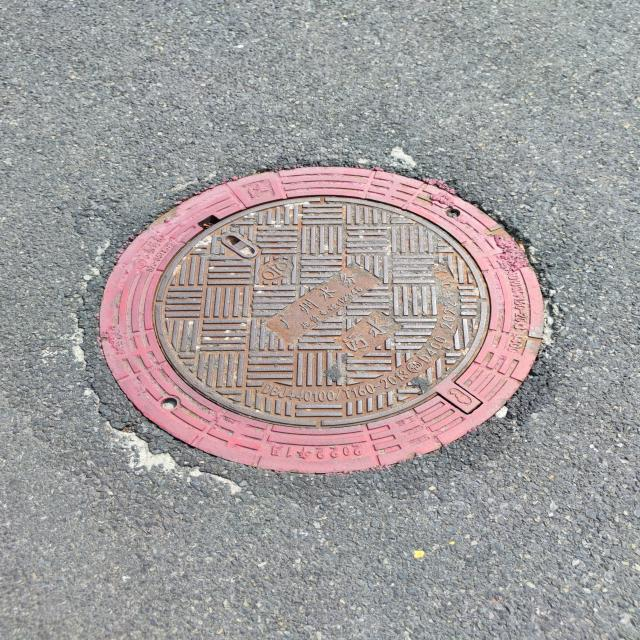Good: (98, 162, 555, 481)
